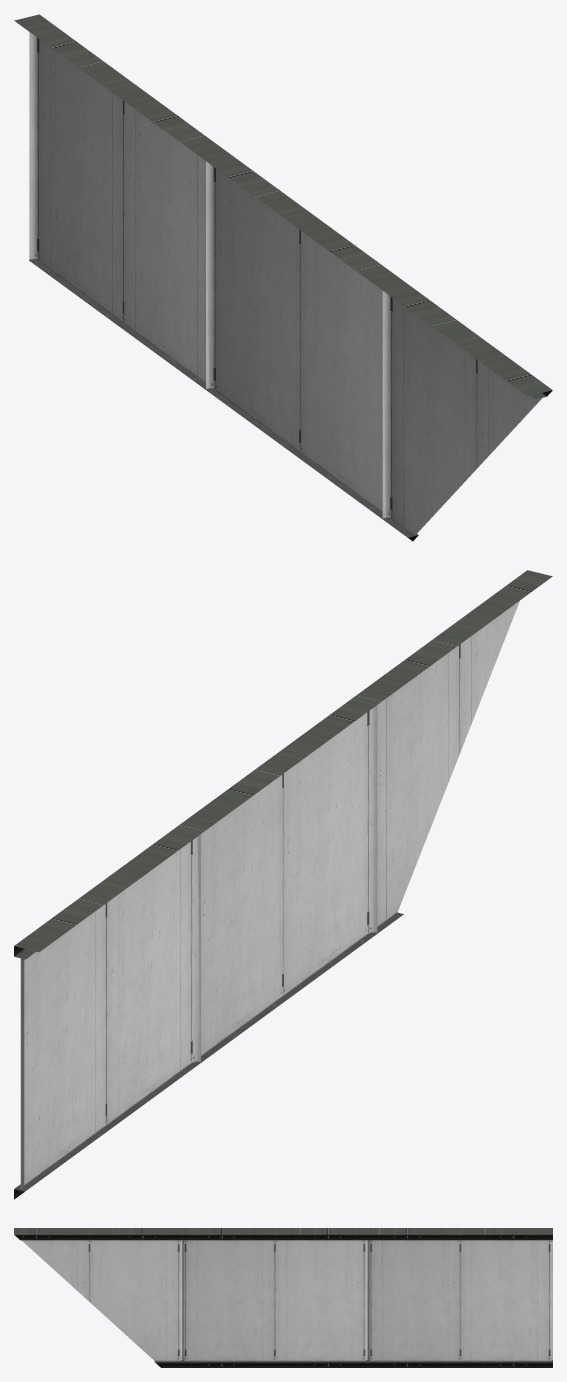
File: Dock_Wallcap.FBX
The picture shows the model from 3 angles, top to bottom: view 1: azimuth 30°, elevation 25°; view 2: azimuth 150°, elevation 25°; view 3: azimuth 270°, elevation 25°; orthographic projection. The views are drawn at different scales.
Visible parts, largest first — view 1: Dock_Wallcap; view 2: Dock_Wallcap; view 3: Dock_Wallcap.
Part boxes in pixels (x1,y1,x2,y2): Dock_Wallcap: (14,14,552,541); Dock_Wallcap: (14,570,552,1199); Dock_Wallcap: (14,1228,552,1367).
Bounding box in the file's own units: 0.5 × 4.76 × 17.44.
